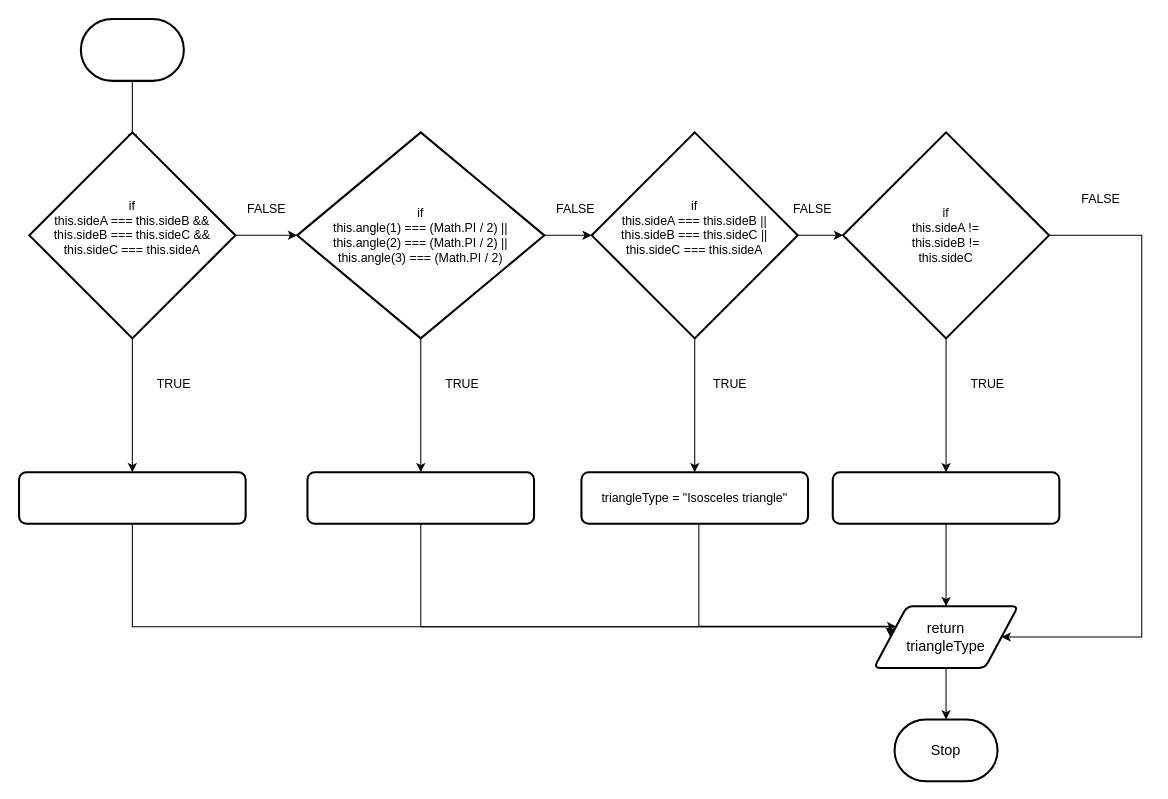
Image size: 1168x799. Some labels were removed from this diagram. Each missing label, with the centre of its shape:
Start: the point at 131,49
triangleType = "Equilateral triangle": the point at 132,497
triangleType = "Right angle triangle": the point at 420,497
triangleType = "Scalene triangle": the point at 945,497
